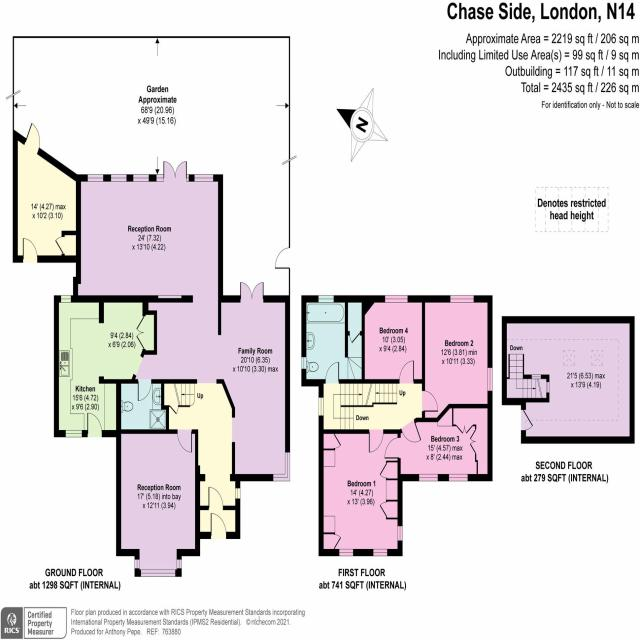DOOR: (401, 419, 422, 443), (210, 513, 227, 539), (421, 390, 439, 413), (399, 359, 415, 384), (368, 429, 384, 453), (177, 429, 193, 453), (208, 486, 224, 510), (384, 437, 401, 459), (87, 413, 102, 437), (137, 379, 152, 401), (325, 361, 339, 384)
DOUBLE DOOR: (163, 157, 188, 182), (239, 279, 265, 303)
ROOM: (73, 160, 223, 303), (54, 295, 157, 437), (116, 429, 200, 577), (318, 429, 403, 556), (421, 295, 493, 423), (384, 404, 493, 482), (362, 295, 425, 384)
WINDOW: (273, 452, 290, 482), (140, 569, 176, 577), (450, 295, 474, 303), (385, 295, 408, 303), (449, 474, 468, 482), (194, 174, 213, 182), (487, 367, 493, 392), (65, 430, 82, 438), (87, 174, 104, 182), (419, 474, 438, 481), (318, 295, 334, 303), (111, 174, 127, 182), (133, 174, 149, 182), (339, 549, 354, 557), (318, 397, 324, 416), (373, 549, 388, 556), (397, 526, 403, 541), (61, 295, 71, 303), (156, 174, 164, 182), (301, 357, 306, 369), (176, 559, 182, 569), (134, 559, 140, 569), (235, 488, 240, 499)
